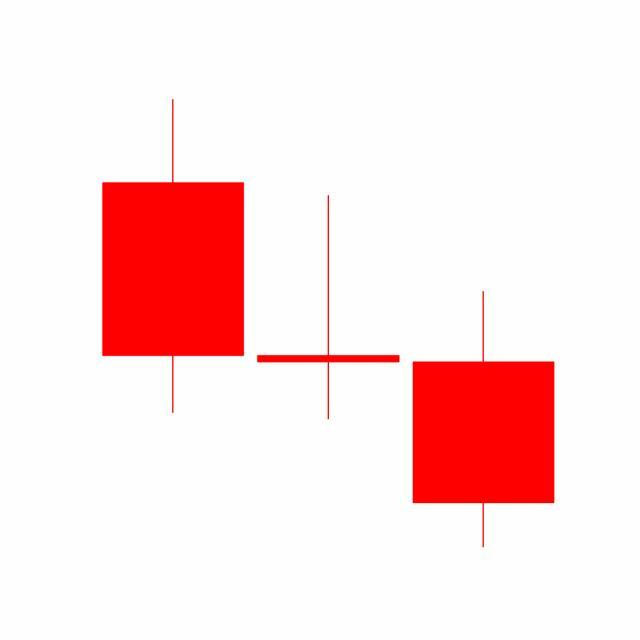Spinning Top: (250, 193, 407, 423)
